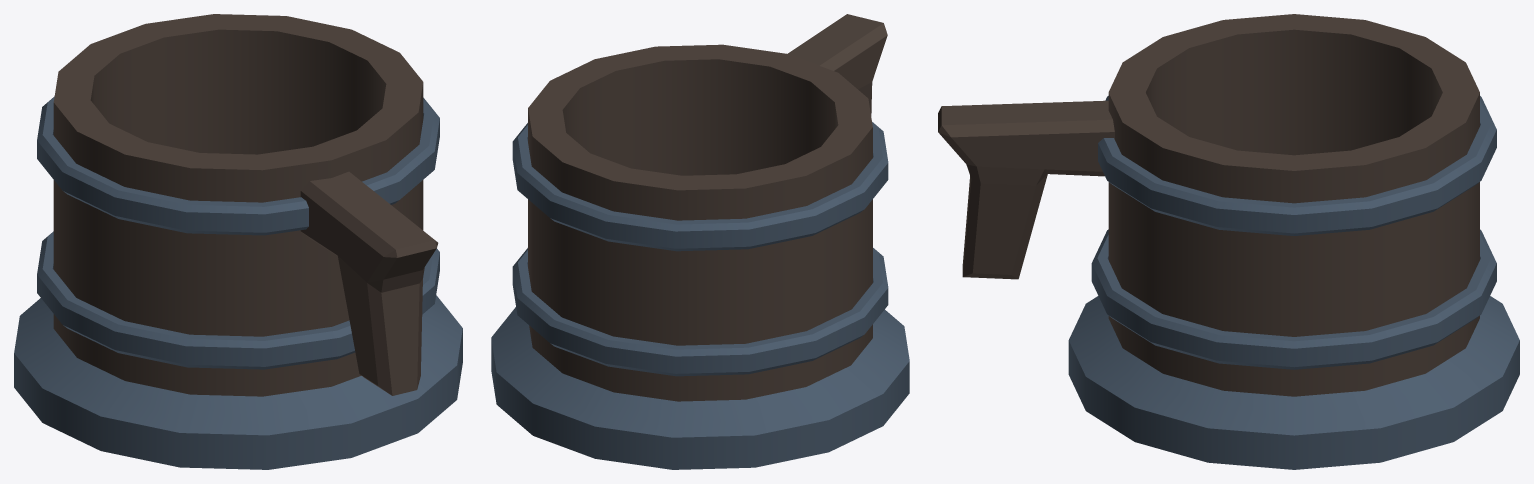
Rendered from tankard.fbx.
The picture shows the model from 3 angles, left to right: view 1: azimuth 30°, elevation 25°; view 2: azimuth 150°, elevation 25°; view 3: azimuth 270°, elevation 25°; orthographic projection. The views are drawn at different scales.
Visible parts, largest first — view 1: Circle.005; view 2: Circle.005; view 3: Circle.005.
Boxes of the visible parts, x1=… form: Circle.005: x1=14, y1=14, x2=462, y2=469; Circle.005: x1=491, y1=14, x2=909, y2=469; Circle.005: x1=938, y1=14, x2=1519, y2=469.
Bounding box in the file's own units: 0.2754 × 0.19 × 0.3552.
